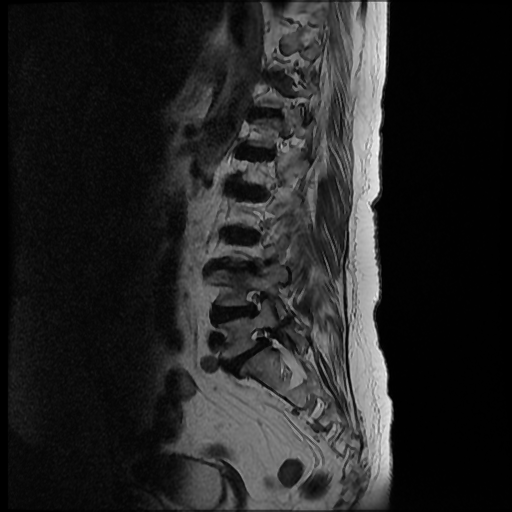LFS0: (236, 281, 279, 321)
